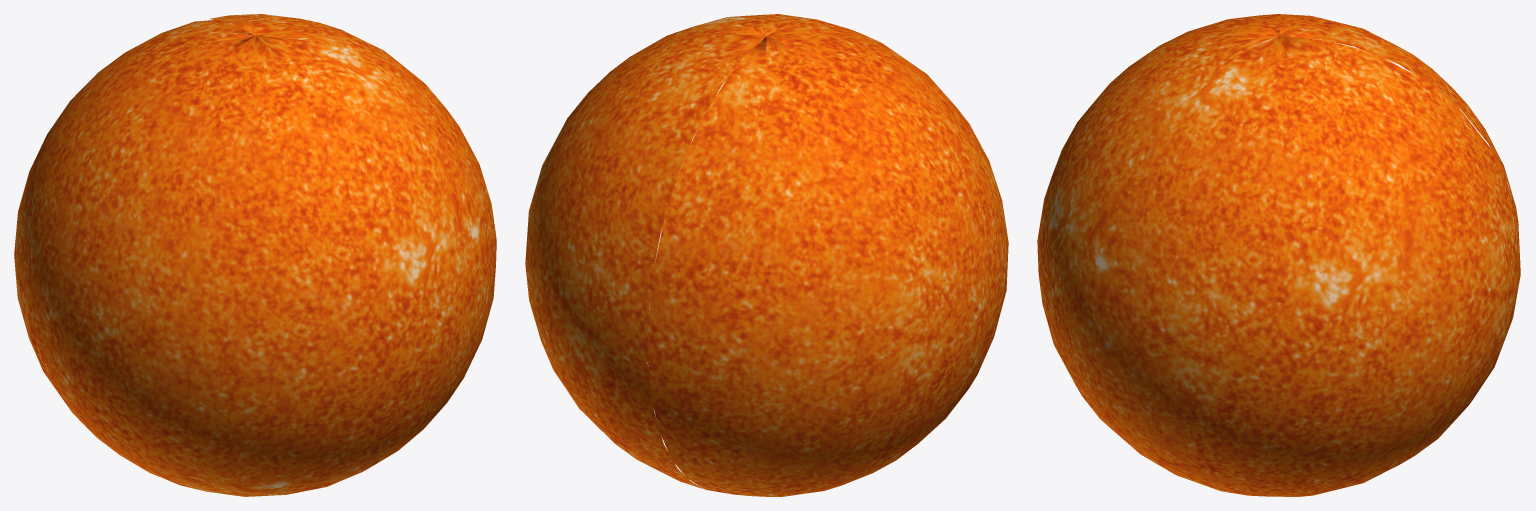
The model's file is Sun.gltf.
The picture shows the model from 3 angles, left to right: view 1: azimuth 30°, elevation 25°; view 2: azimuth 150°, elevation 25°; view 3: azimuth 270°, elevation 25°; orthographic projection.
Parts seen in each view (by area): view 1: UnstableStarCore; view 2: UnstableStarCore; view 3: UnstableStarCore.
Part boxes in pixels (box(x1,y1,x2,y2)): UnstableStarCore: box(14, 14, 496, 496); UnstableStarCore: box(525, 14, 1008, 496); UnstableStarCore: box(1037, 14, 1520, 496).
Size of the model in its own units: 20 by 20.11 by 20.03.
Materials: 1 (1 with a texture image).
